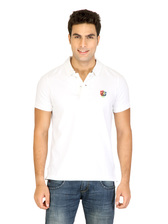clothoes: (30, 53, 131, 187)
